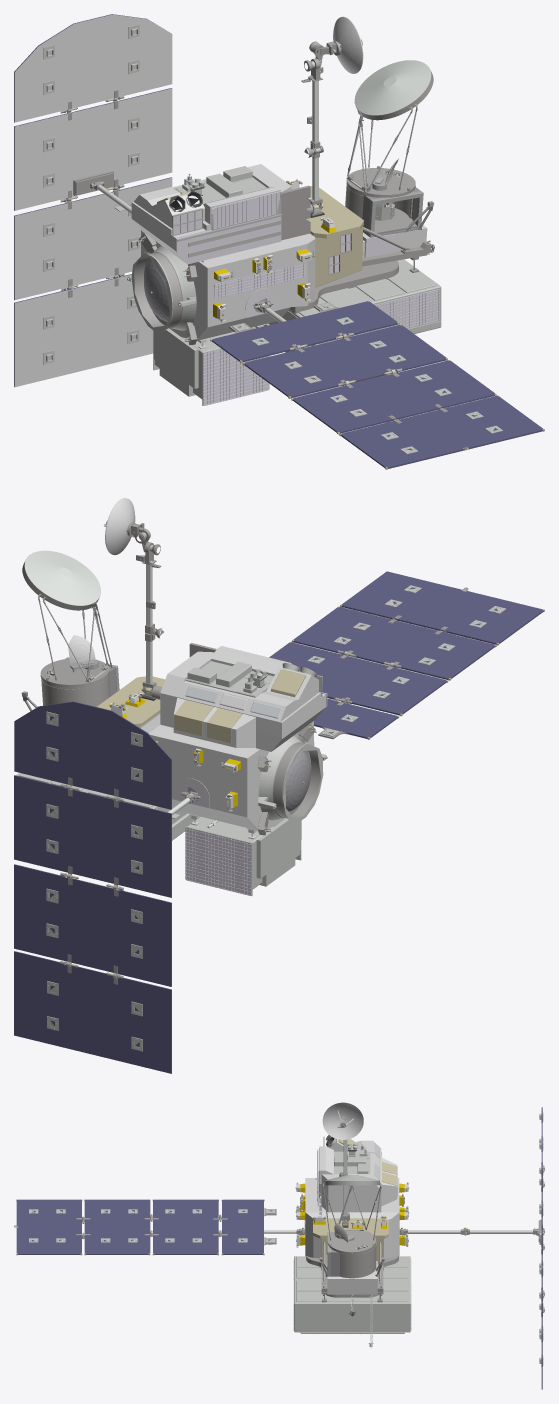
Rendered from gpm.glb.
3 renders of one model, top to bottom at view 1: azimuth 30°, elevation 25°; view 2: azimuth 150°, elevation 25°; view 3: azimuth 270°, elevation 25°, orthographic. The views are drawn at different scales.
Parts seen in each view (by area): view 1: GPM-MainBus; view 2: GPM-MainBus; view 3: GPM-MainBus.
Part boxes in pixels (x1=…): GPM-MainBus: x1=14, y1=14, x2=544, y2=469; GPM-MainBus: x1=14, y1=498, x2=544, y2=1073; GPM-MainBus: x1=14, y1=1102, x2=544, y2=1389.
Bounding box in the file's own units: 190 × 268 × 432.
3 materials, 3 textured.
